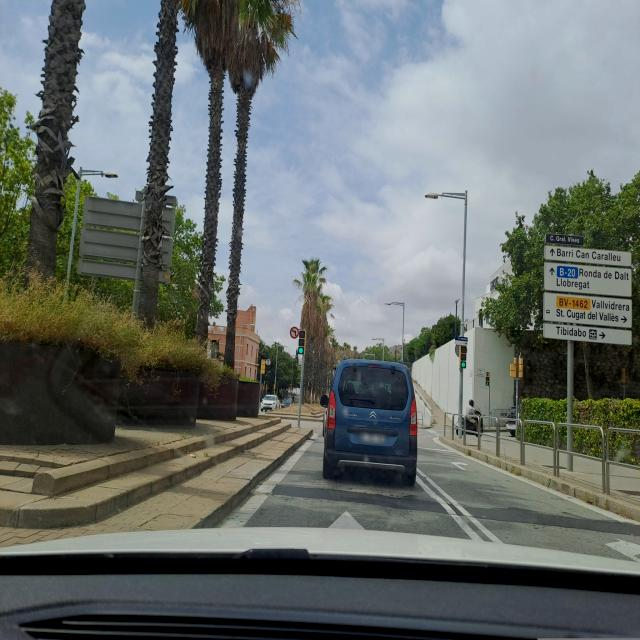bike: (460, 398, 484, 437)
car: (322, 358, 418, 485), (261, 394, 280, 411), (282, 396, 292, 407)
